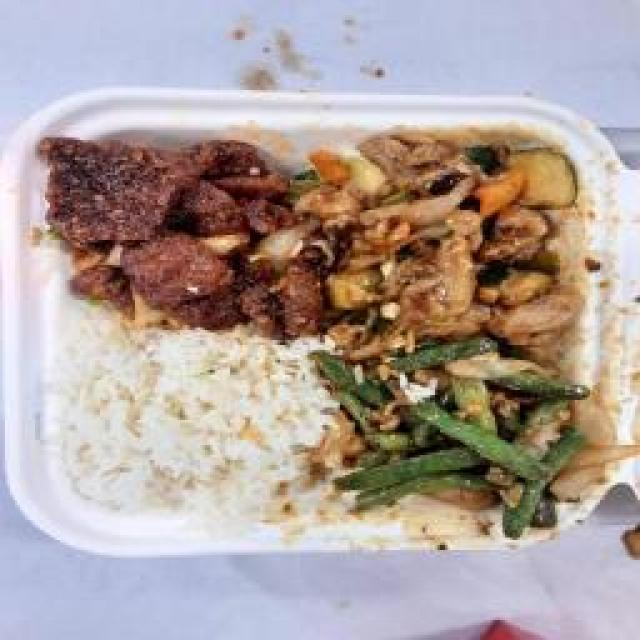Beijing Beef: (40, 130, 315, 333)
Kung Pao Chicken: (300, 123, 578, 343)
String Bean Chicken Breast: (327, 333, 595, 528)
White Steamed Rice: (53, 325, 326, 528)
